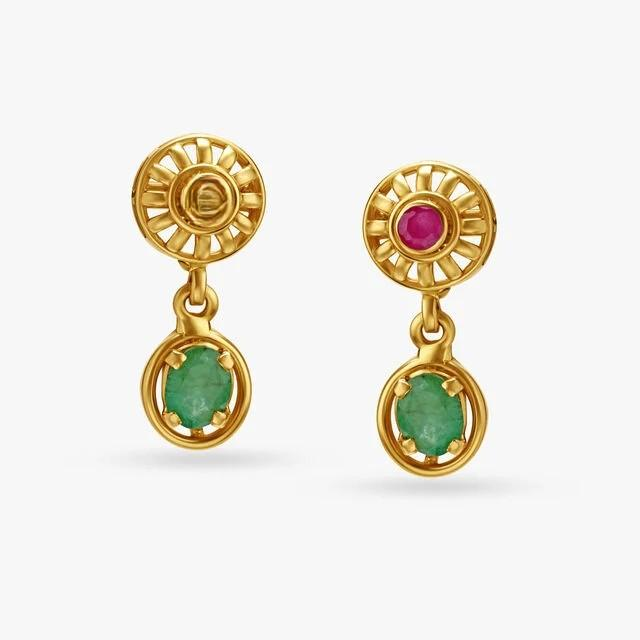missing gem: (186, 177, 229, 224)
